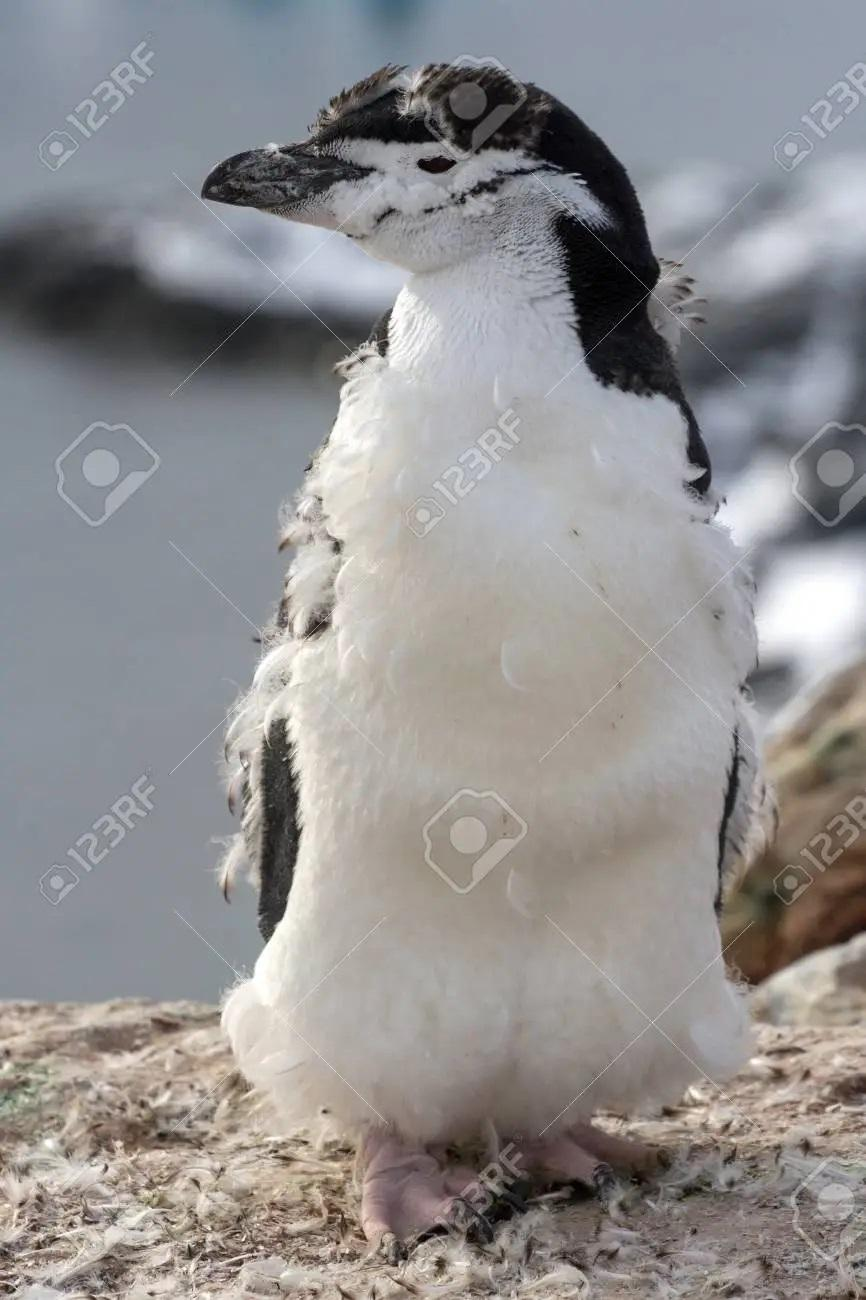chinstrap: (118, 5, 850, 1261)
